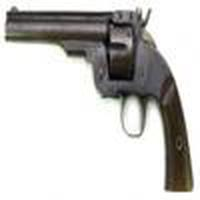gun: (4, 7, 197, 157)
